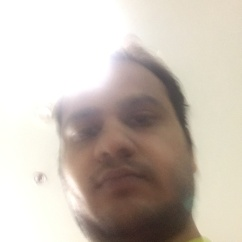glasses: (67, 114, 172, 139)
